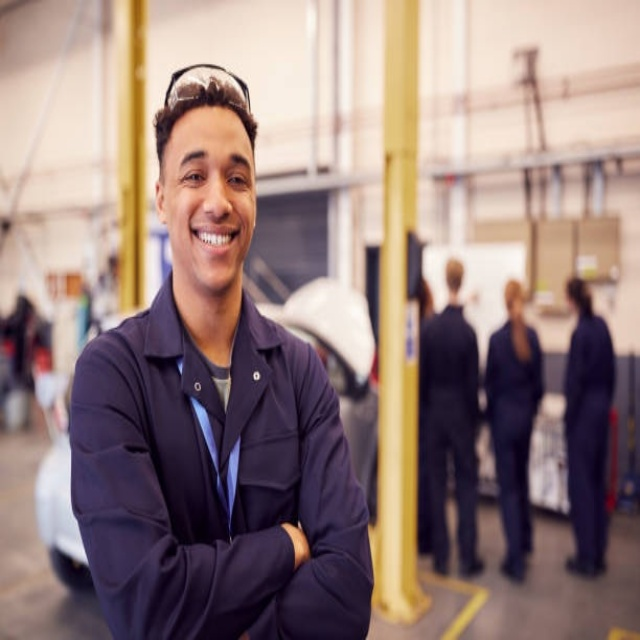Sin_gafas: (172, 147, 253, 202)
Sin_mascara: (184, 215, 242, 265)
